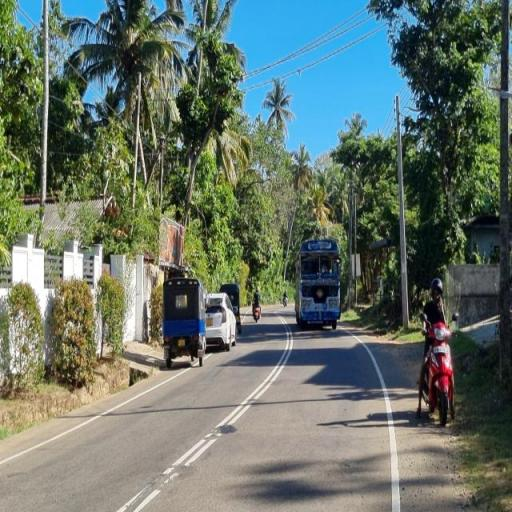double_white_line: (158, 326, 296, 490)
